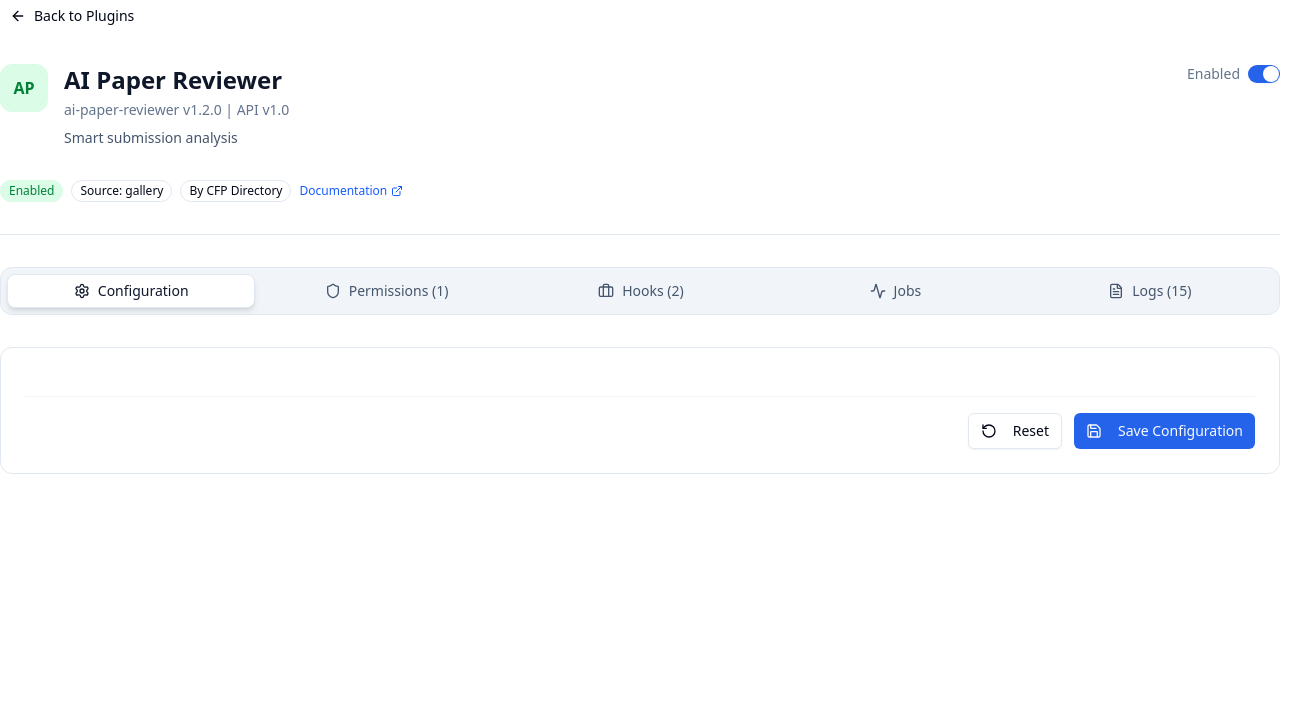
PluginDetail › shows manage severity for manage permissions
Click the tab "Permissions (1)" at (387, 291), box [263,274,510,308]
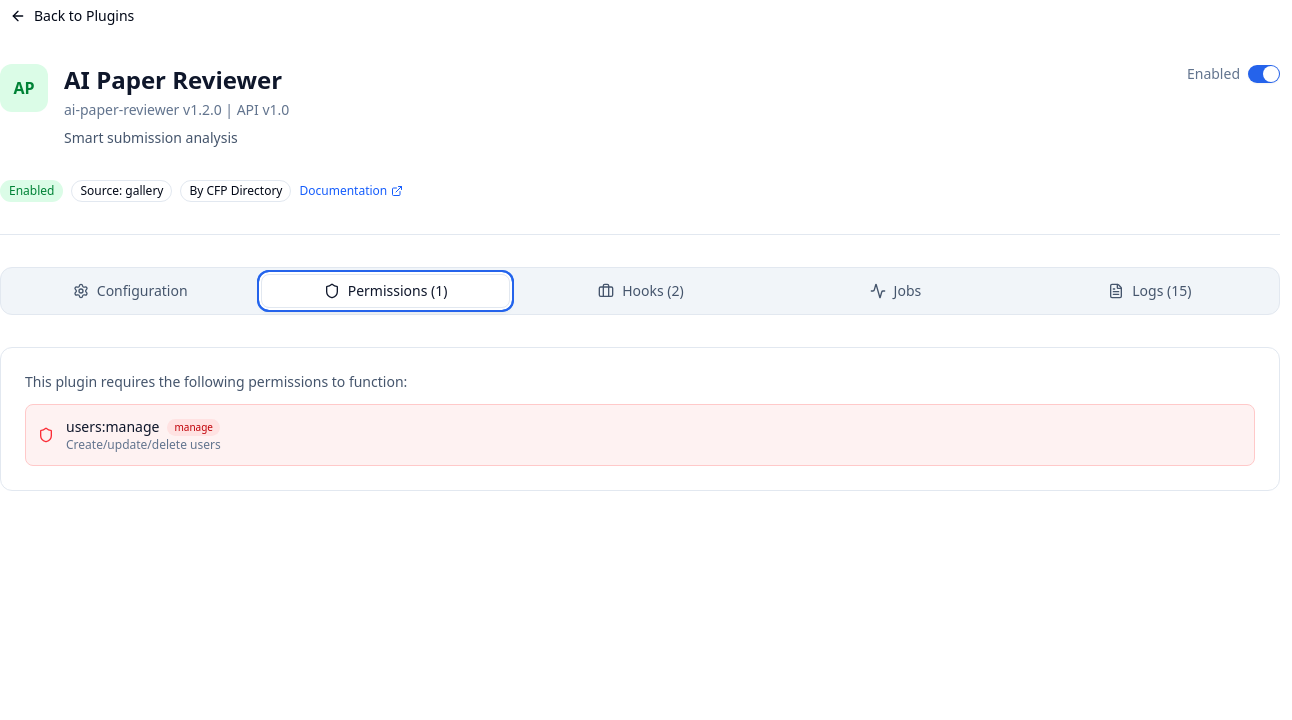
Now the text "manage" is shown, box [168,418,220,436]
